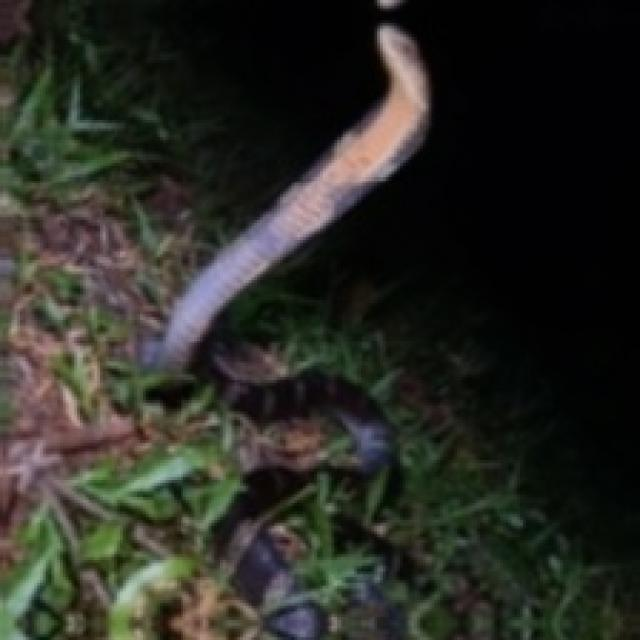king cobra: (143, 23, 429, 366)
